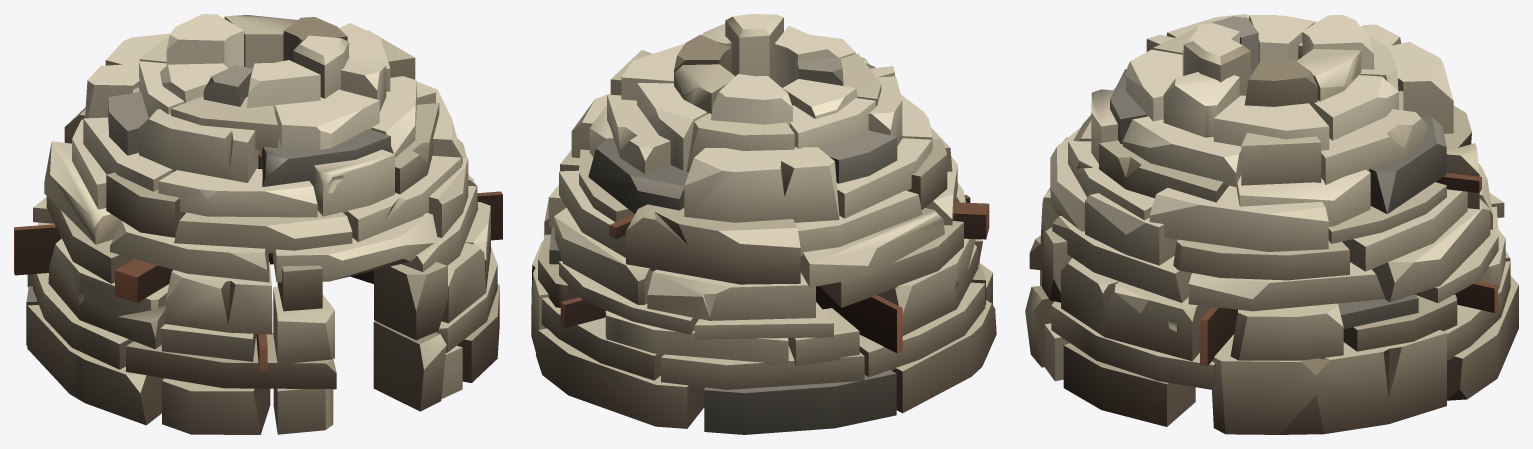
Rendered from Hut_1A.fbx.
3 renders of one model, left to right at view 1: azimuth 30°, elevation 25°; view 2: azimuth 150°, elevation 25°; view 3: azimuth 270°, elevation 25°, orthographic. The views are drawn at different scales.
Visible parts, largest first — view 1: Hut_1A; view 2: Hut_1A; view 3: Hut_1A.
Boxes of the visible parts, left/top/right/bottom form: Hut_1A: left=14, top=14, right=502, bottom=434; Hut_1A: left=531, top=14, right=996, bottom=434; Hut_1A: left=1025, top=14, right=1518, bottom=434.
Bounding box in the file's own units: 589 × 410 × 601.
